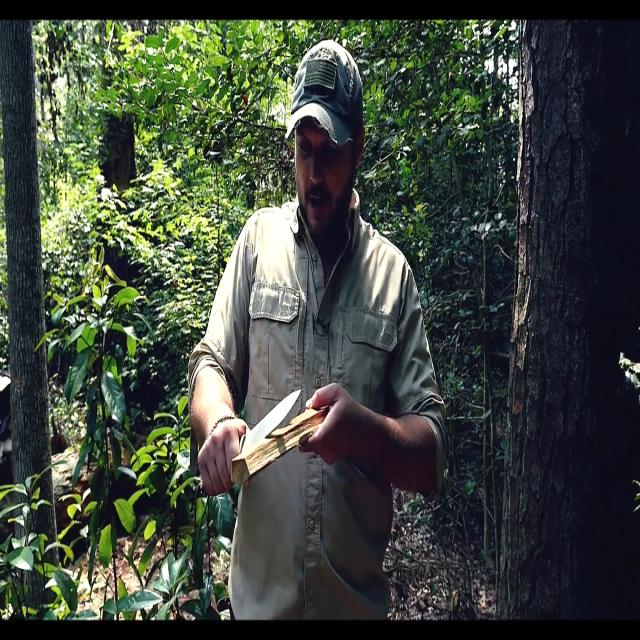knife: (241, 389, 307, 457)
